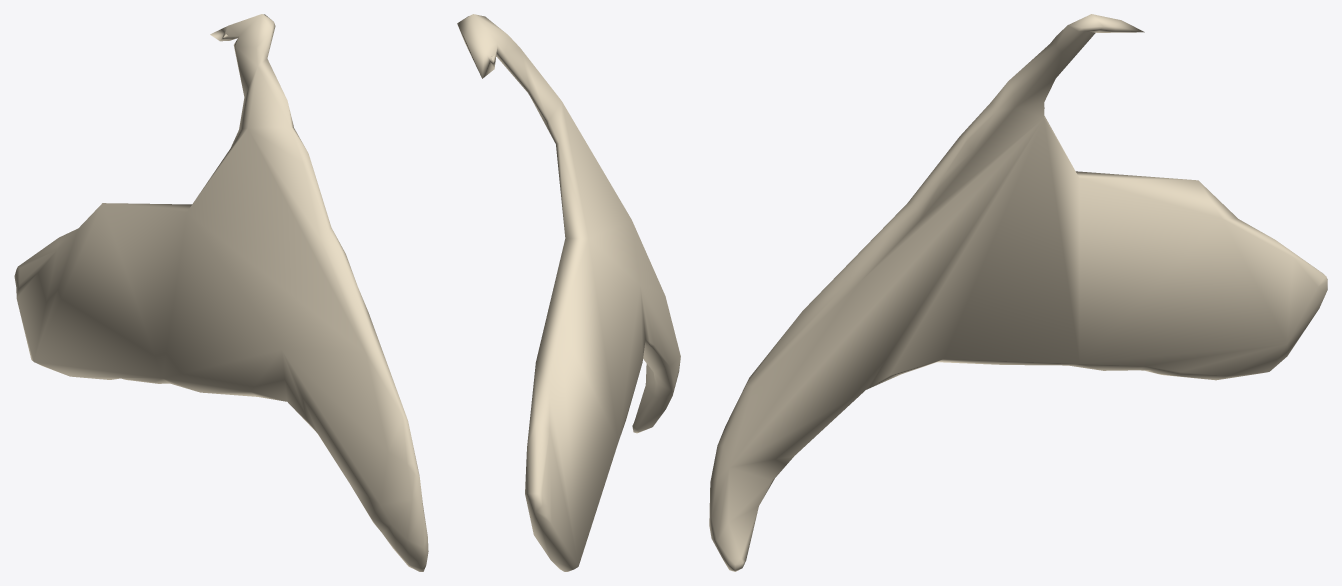
Rendered from lateral-process-of-nasal-septal-cartilage-r.glb.
The picture shows the model from 3 angles, left to right: view 1: azimuth 30°, elevation 25°; view 2: azimuth 150°, elevation 25°; view 3: azimuth 270°, elevation 25°; orthographic projection. The views are drawn at different scales.
Parts seen in each view (by area): view 1: Lateral process of nasal septal cartilage.r; view 2: Lateral process of nasal septal cartilage.r; view 3: Lateral process of nasal septal cartilage.r.
Part boxes in pixels (x1,y1,x2,y2): Lateral process of nasal septal cartilage.r: (14, 14, 428, 571); Lateral process of nasal septal cartilage.r: (457, 14, 680, 571); Lateral process of nasal septal cartilage.r: (709, 14, 1327, 571).
Size of the model in its own units: 0.0132 by 0.033 by 0.0336.
